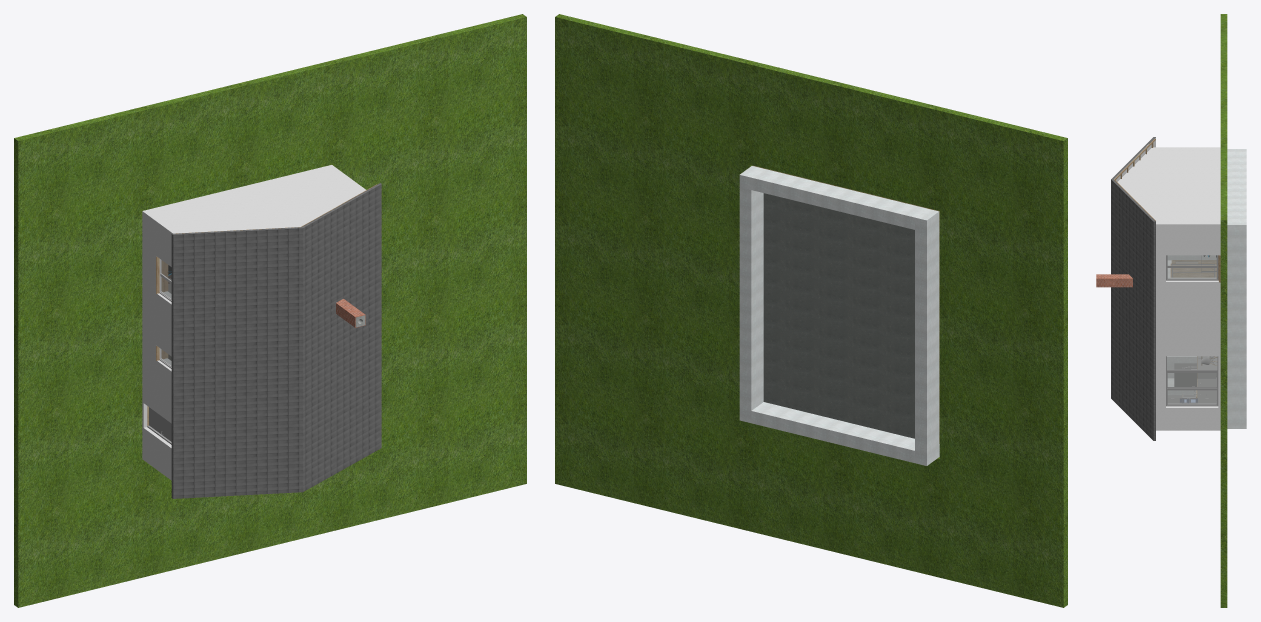
Rendered from vymenek.glb.
3 views of the same model, side by side, from view 1: azimuth 30°, elevation 25°; view 2: azimuth 150°, elevation 25°; view 3: azimuth 270°, elevation 25° (orthographic). The views are drawn at different scales.
Visible parts, largest first — view 1: okolí Trávník_-_zelený, Konstrukce_-_střechy Střecha_-_tašky_grafitově_šedé, Konstrukce_-_svislé_nosné Štuk_-_bílý_hrubý; view 2: okolí Trávník_-_zelený, Konstrukce_-_vodorovné_nosné Beton_-_20, Konstrukce_-_svislé_nosné Štuk_-_bílý_jemný; view 3: Konstrukce_-_svislé_nosné Štuk_-_bílý_hrubý, Konstrukce_-_střechy Střecha_-_tašky_grafitově_šedé, Konstrukce_-_svislé_nosné Štuk_-_bílý_jemný, okolí Trávník_-_zelený, Konstrukce_-_svislé_nosné Sklo_-_čiré_rychlé, Interiér_-_nábytek Barva_02_-_titanově_bílá FLAT_PART, Interiér_-_nábytek Kov_-_chrom_01 FLAT_PART, Interiér_-_nábytek Dřevo_-_dub_světlý, Interiér_-_sanita_a_zařízení Cihla_-_běhounová_vazba_1, Interiér_-_sanita_a_zařízení Barva_01_-_bílá_lesklá FLAT_PAR, Interiér_-_nábytek Dřevo_-_borovice_vodorovně.
Part boxes in pixels (<box>): okolí Trávník_-_zelený: <box>14,14,526,607</box>; Konstrukce_-_střechy Střecha_-_tašky_grafitově_šedé: <box>171,183,381,498</box>; Konstrukce_-_svislé_nosné Štuk_-_bílý_hrubý: <box>142,165,365,480</box>; okolí Trávník_-_zelený: <box>555,14,1067,607</box>; Konstrukce_-_vodorovné_nosné Beton_-_20: <box>763,193,914,438</box>; Konstrukce_-_svislé_nosné Štuk_-_bílý_jemný: <box>739,166,939,465</box>; Konstrukce_-_svislé_nosné Štuk_-_bílý_hrubý: <box>1117,147,1220,430</box>; Konstrukce_-_střechy Střecha_-_tašky_grafitově_šedé: <box>1111,137,1155,440</box>; Konstrukce_-_svislé_nosné Štuk_-_bílý_jemný: <box>1167,149,1246,428</box>; okolí Trávník_-_zelený: <box>1220,14,1227,607</box>; Konstrukce_-_svislé_nosné Sklo_-_čiré_rychlé: <box>1167,255,1216,404</box>; Interiér_-_nábytek Barva_02_-_titanově_bílá FLAT_PART: <box>1166,255,1218,406</box>; Interiér_-_nábytek Kov_-_chrom_01 FLAT_PART: <box>1171,264,1215,403</box>; Interiér_-_nábytek Dřevo_-_dub_světlý: <box>1171,260,1216,397</box>; Interiér_-_sanita_a_zařízení Cihla_-_běhounová_vazba_1: <box>1096,274,1132,287</box>; Interiér_-_sanita_a_zařízení Barva_01_-_bílá_lesklá FLAT_PAR: <box>1167,378,1215,403</box>; Interiér_-_nábytek Dřevo_-_borovice_vodorovně: <box>1114,139,1220,397</box>.
Size of the model in its own units: 21450 by 18814 by 6616.
Materials: 37 (18 with a texture image).
